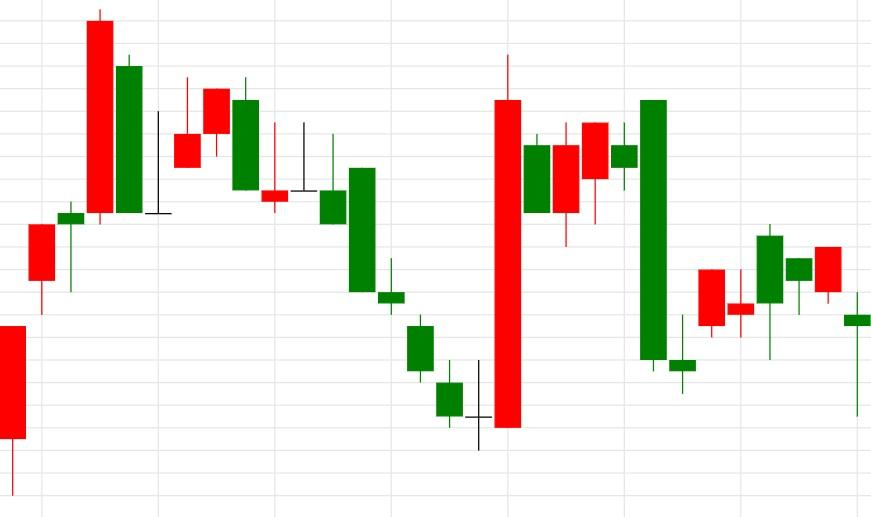morning_star_rise: (202, 53, 522, 452)
